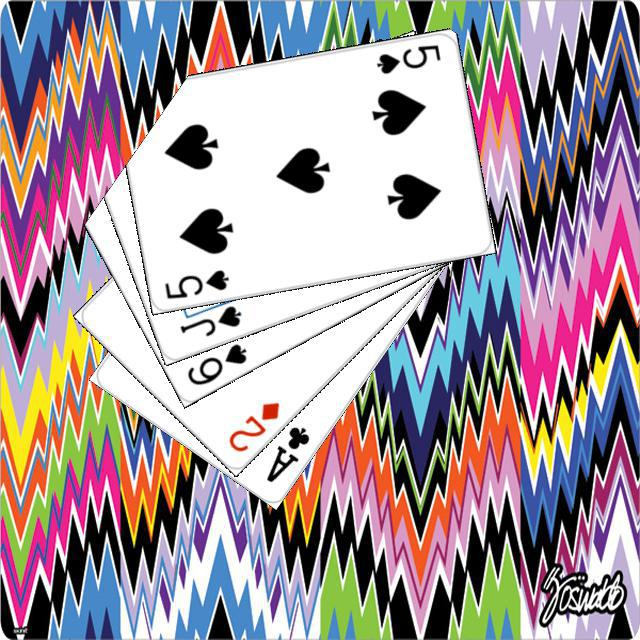2d: (223, 397, 282, 454)
5s: (159, 265, 231, 301), (372, 39, 442, 76)
6s: (182, 338, 249, 387)
Ac: (261, 421, 312, 485)
Js: (174, 300, 243, 338)
